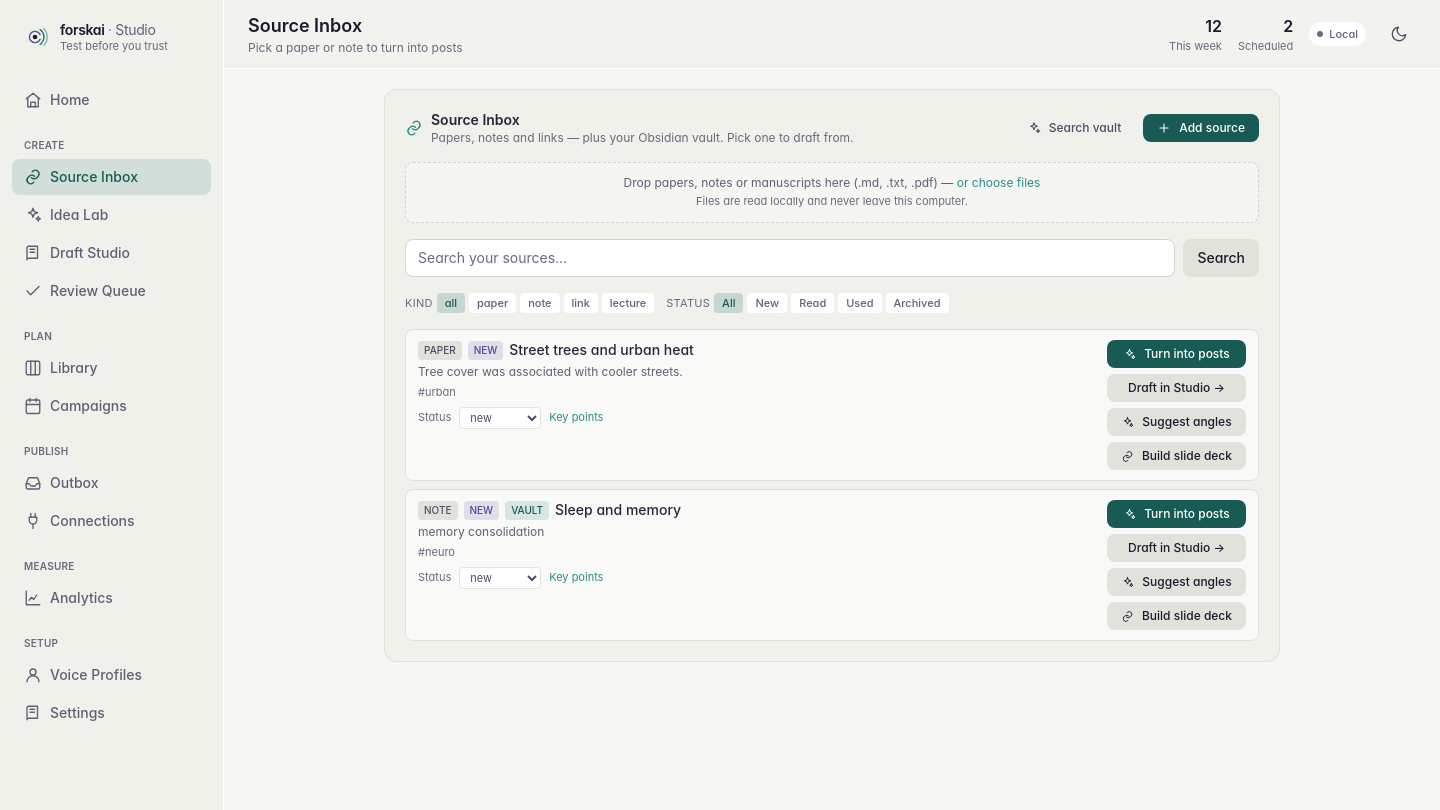
Source Inbox › searches the inbox
Check: the list with test id "source-list" is shown, box [405,329,1259,641]
Step 1. Type "urban" into the field named "Search sources" → (790, 258), box [405,238,1175,276]
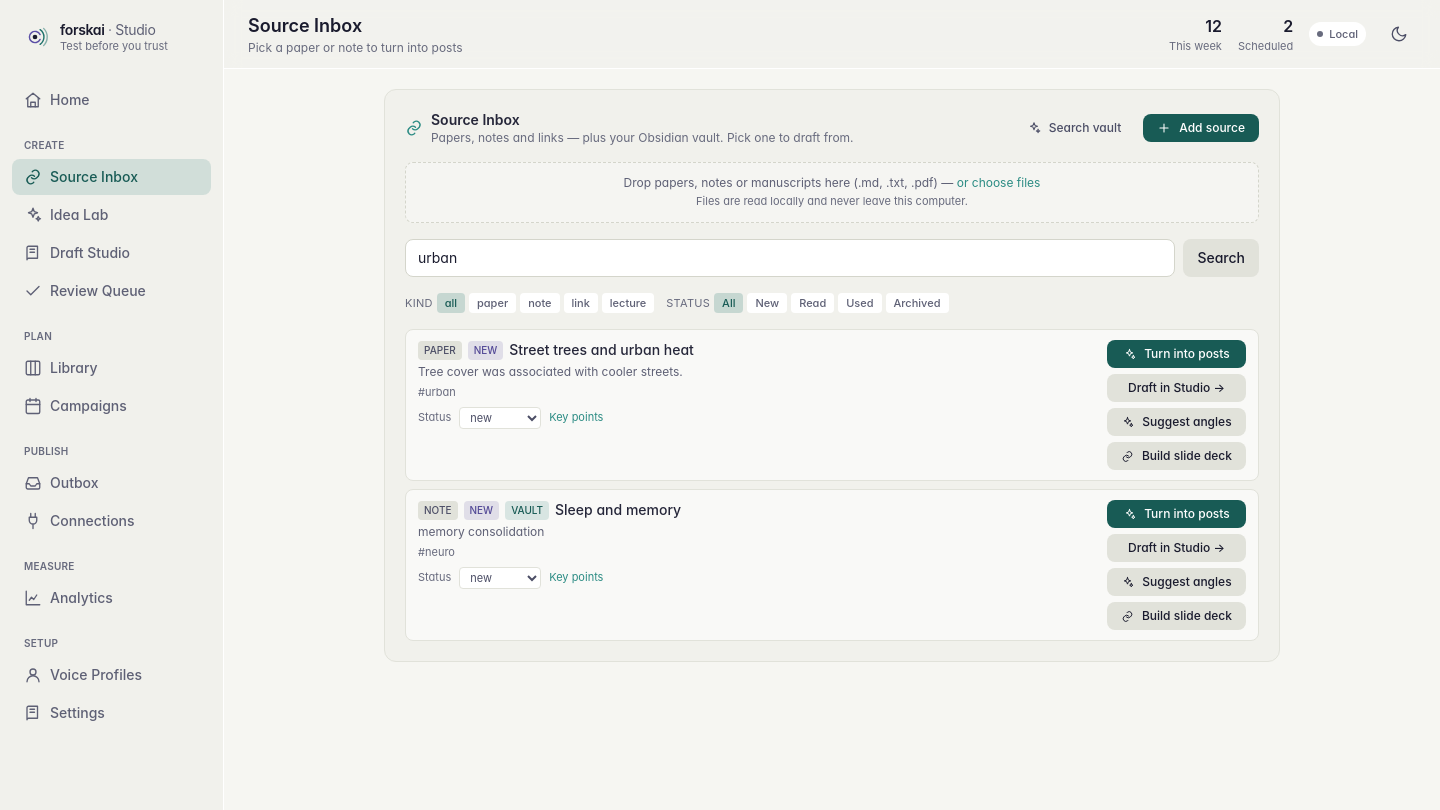
Step 2. Click the button "Search" → (1221, 258), box [1183,238,1259,276]
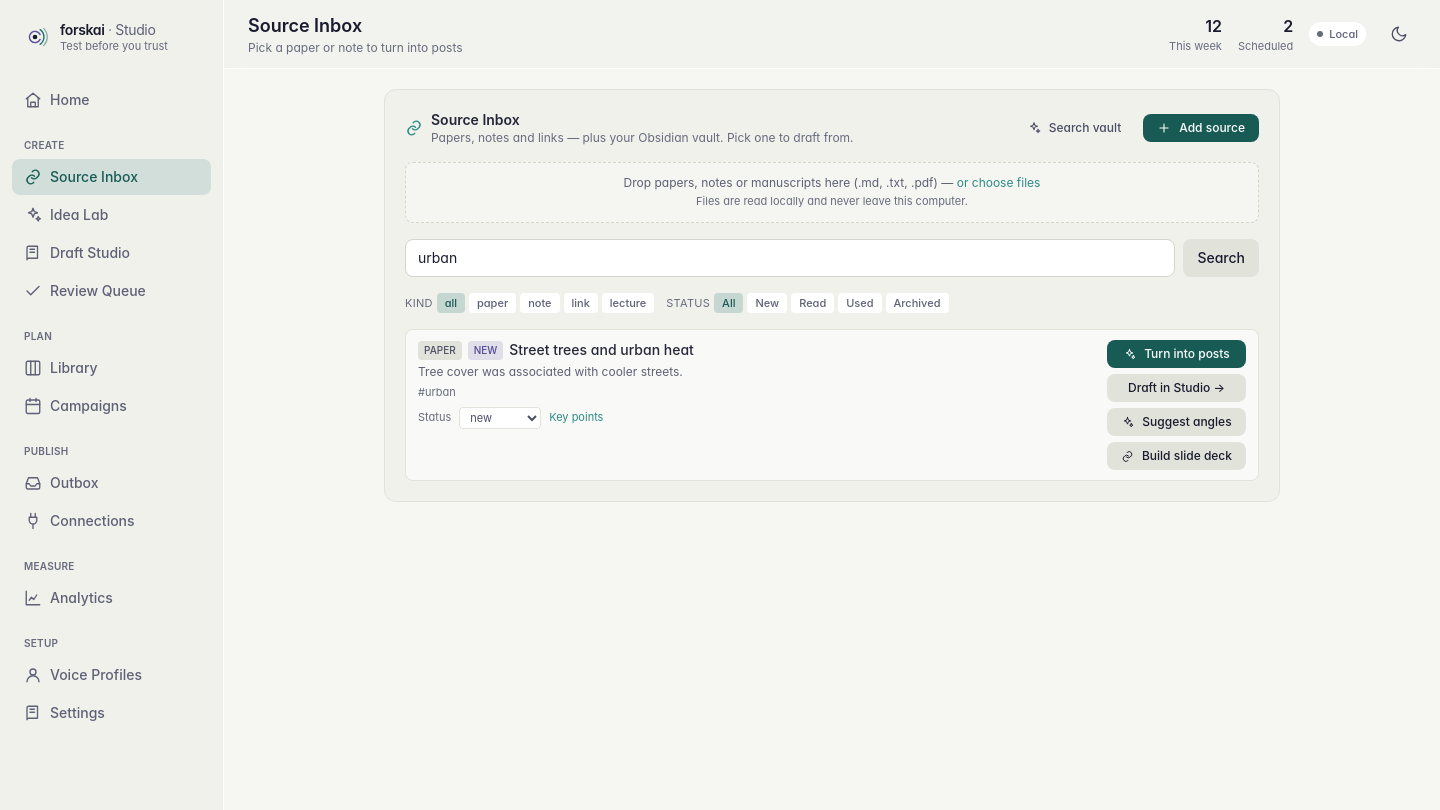
Check: the text "Street trees and urban heat" is shown, box [509,340,694,360]
Check: the number of list items is 1, box [405,329,1259,481]
